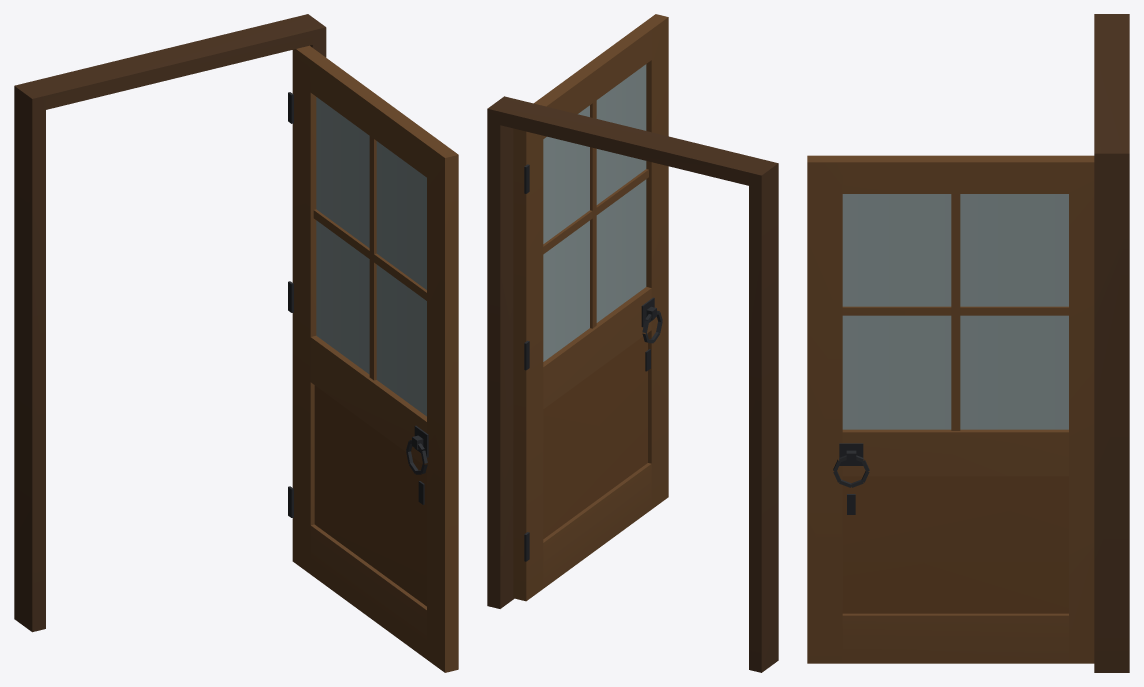
The model's file is door.oak_slim_open_left.glazed.glb.
The picture shows the model from 3 angles, left to right: view 1: azimuth 30°, elevation 25°; view 2: azimuth 150°, elevation 25°; view 3: azimuth 270°, elevation 25°; orthographic projection. The views are drawn at different scales.
Parts seen in each view (by area): view 1: door_oak_slim_open_left_glazed; view 2: door_oak_slim_open_left_glazed; view 3: door_oak_slim_open_left_glazed.
Part boxes in pixels (<box>): door_oak_slim_open_left_glazed: <box>14,14,458,672</box>; door_oak_slim_open_left_glazed: <box>487,14,778,672</box>; door_oak_slim_open_left_glazed: <box>807,14,1129,672</box>.
Size of what is drawn, in the model's own units: 1.5 by 2.6 by 1.46.
